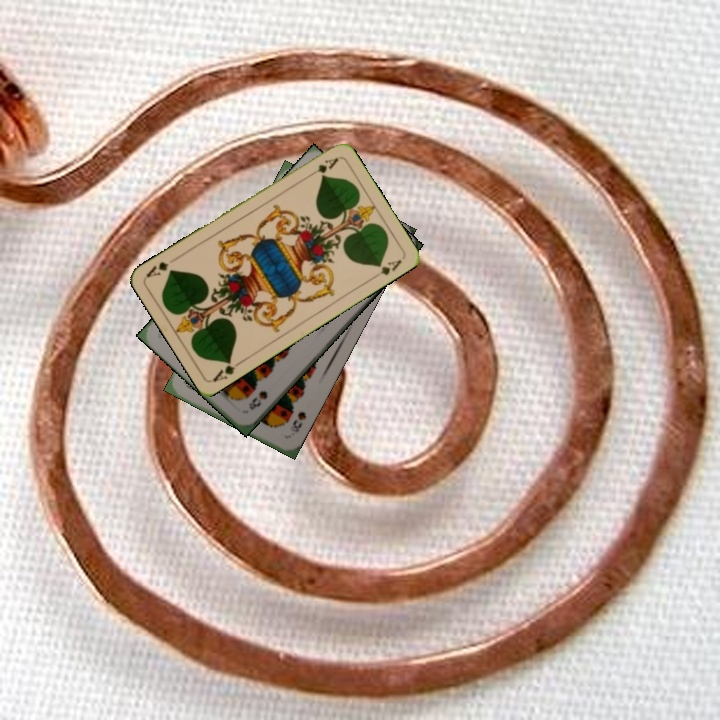GA: (209, 355, 246, 384), (304, 154, 341, 180)
S8: (244, 387, 270, 413), (288, 407, 309, 435)
